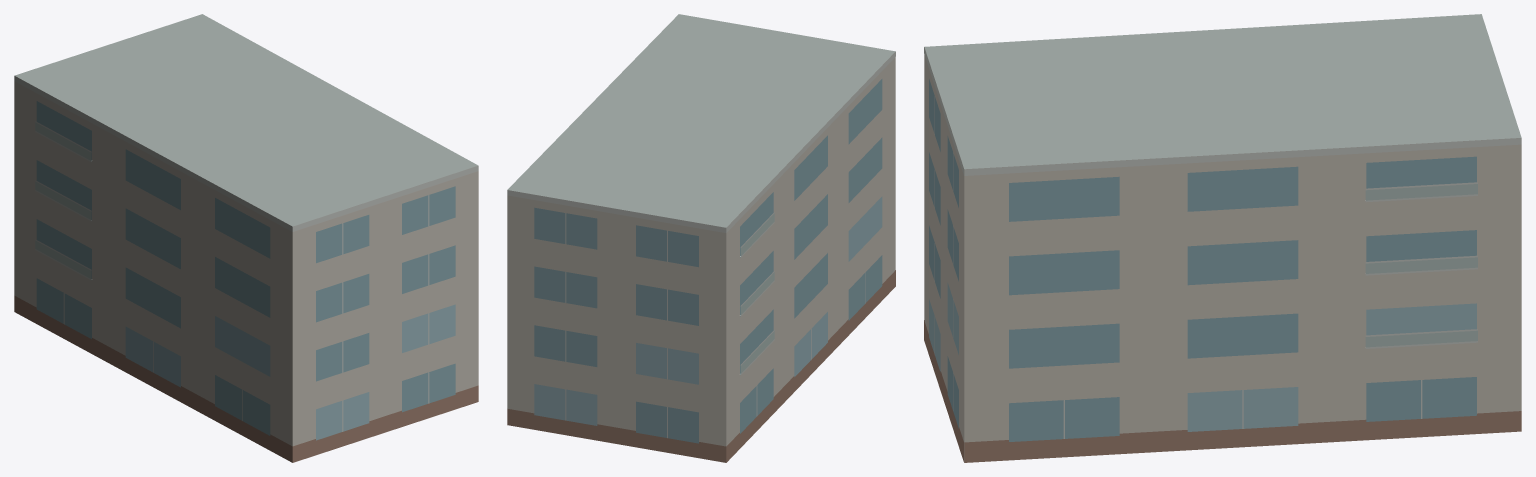
Rendered from survey-upis-32576639.glb.
The picture shows the model from 3 angles, left to right: view 1: azimuth 30°, elevation 25°; view 2: azimuth 150°, elevation 25°; view 3: azimuth 270°, elevation 25°; orthographic projection. The views are drawn at different scales.
Parts seen in each view (by area): view 1: survey-upis-32576639.tmp; view 2: survey-upis-32576639.tmp; view 3: survey-upis-32576639.tmp.
Boxes of the visible parts, x1,y1,x2,y2 form: survey-upis-32576639.tmp: (14, 14, 478, 462); survey-upis-32576639.tmp: (507, 14, 895, 462); survey-upis-32576639.tmp: (924, 14, 1521, 462).
Bounding box in the file's own units: 11.97 × 10.55 × 19.46.
